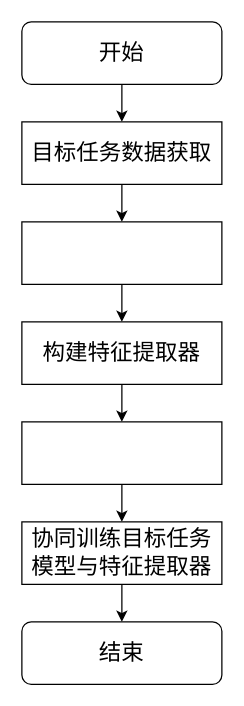
This 244x706 diagram has some shape labels left out. The shapes that lost their labels are listed below. From the top down, each one's box as (x1, y1, x2, y2) in pixels, then its label:
(21, 221, 222, 284): 数据清洗与存储
(21, 421, 222, 484): 整合特征提取器与目标任务模型
